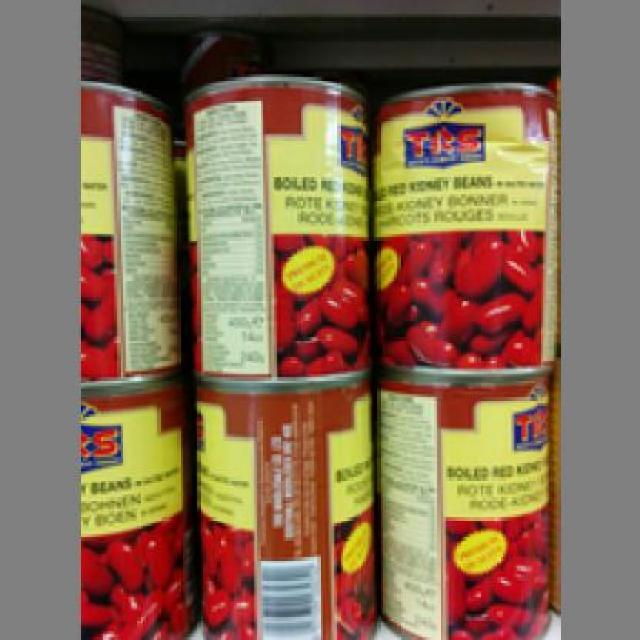Beans: (177, 75, 363, 372), (374, 79, 554, 372), (188, 380, 372, 631), (377, 380, 554, 637)
